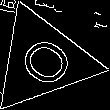O_SE: (7, 27, 78, 93)
